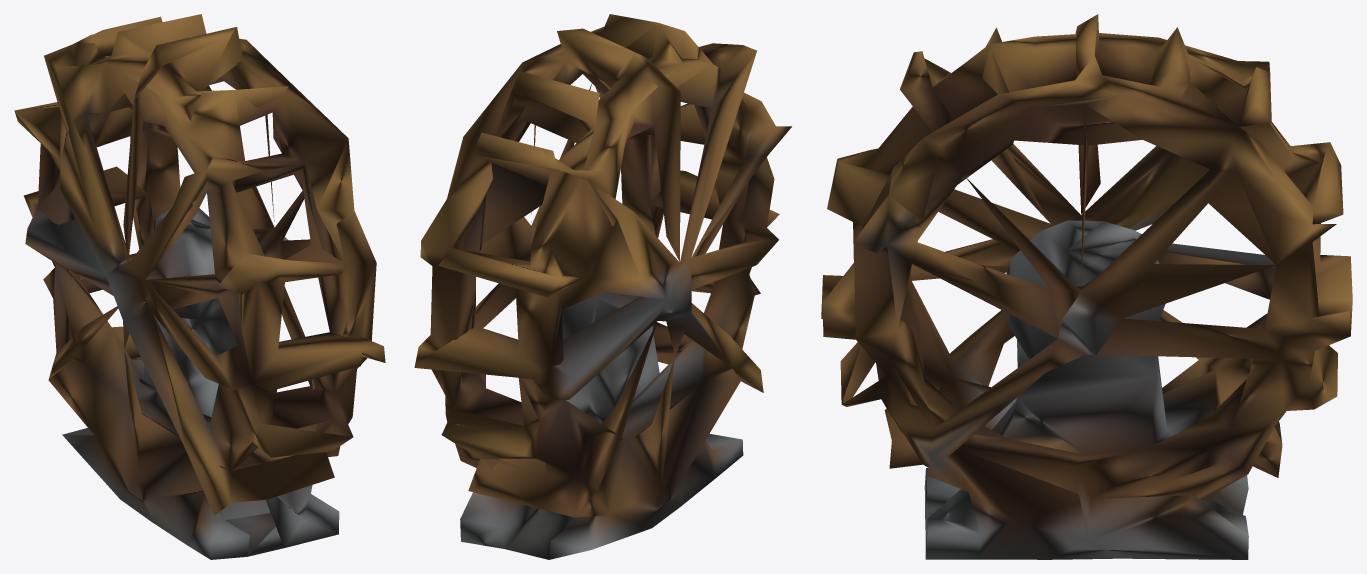
File: gen3d-water-wheel-lod1.glb
3 renders of one model, left to right at view 1: azimuth 30°, elevation 25°; view 2: azimuth 150°, elevation 25°; view 3: azimuth 270°, elevation 25°, orthographic. The views are drawn at different scales.
Parts seen in each view (by area): view 1: part_0; view 2: part_0; view 3: part_0.
Boxes of the visible parts, bbox=[...] form: part_0: bbox=[14, 14, 385, 559]; part_0: bbox=[414, 14, 791, 559]; part_0: bbox=[821, 14, 1352, 559].
Size of the model in its own units: 0.3854 by 0.9949 by 0.9707.
